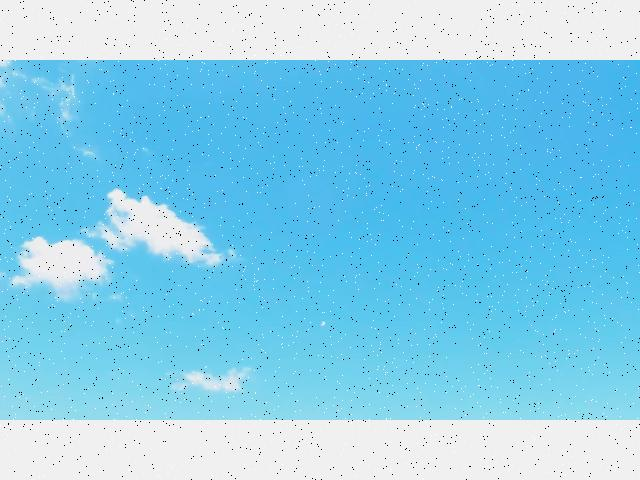Anti-Drone: (312, 316, 330, 332)
